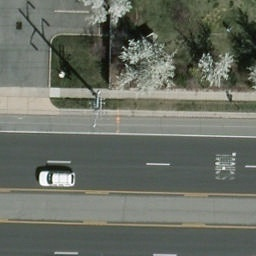car: (37, 170, 77, 188)
